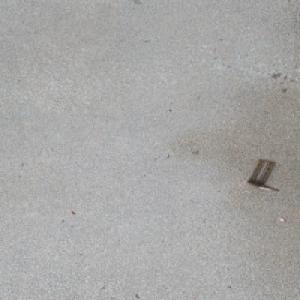MetalPart: (245, 159, 280, 191)
